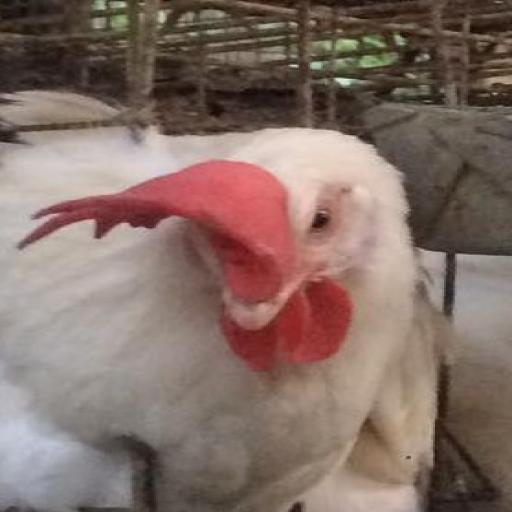healthy: (217, 133, 417, 345)
